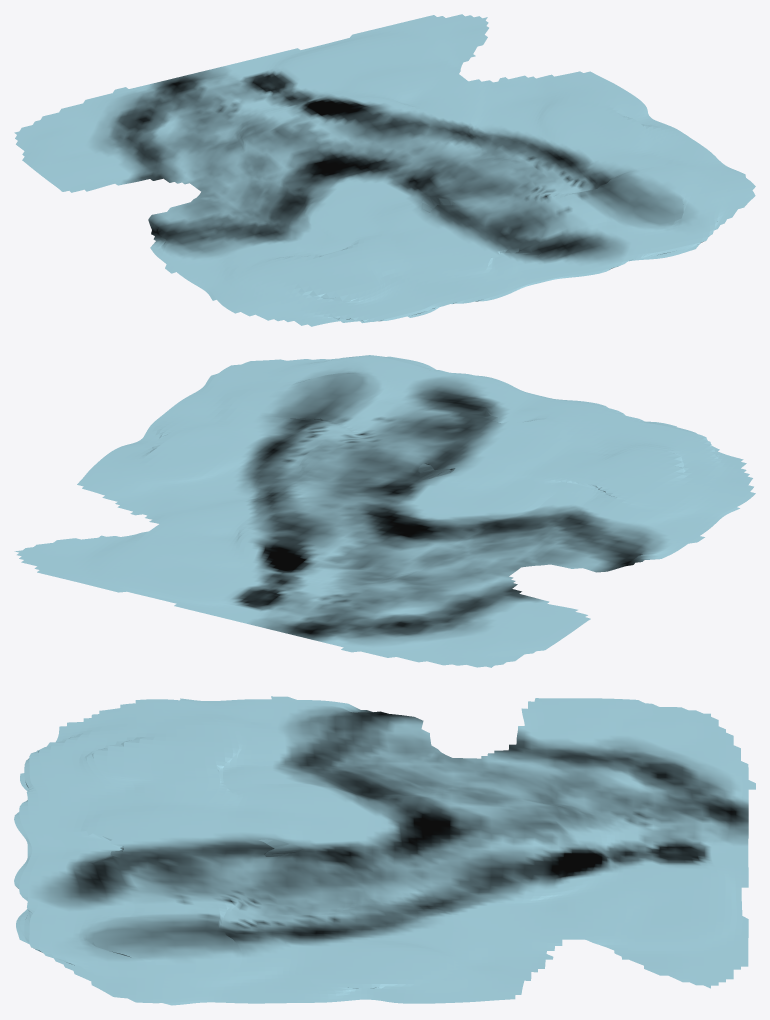
File: Lake.dae
3 views of the same model, one above another, from view 1: azimuth 30°, elevation 25°; view 2: azimuth 150°, elevation 25°; view 3: azimuth 270°, elevation 25° (orthographic). The views are drawn at different scales.
Visible parts, largest first — view 1: SM_IcePlane; view 2: SM_IcePlane; view 3: SM_IcePlane.
Boxes of the visible parts, x1,y1,x2,y2 form: SM_IcePlane: [14, 14, 755, 326]; SM_IcePlane: [14, 355, 755, 667]; SM_IcePlane: [14, 696, 755, 1005].
Bounding box in the file's own units: 277 × 281 × 2.14.
